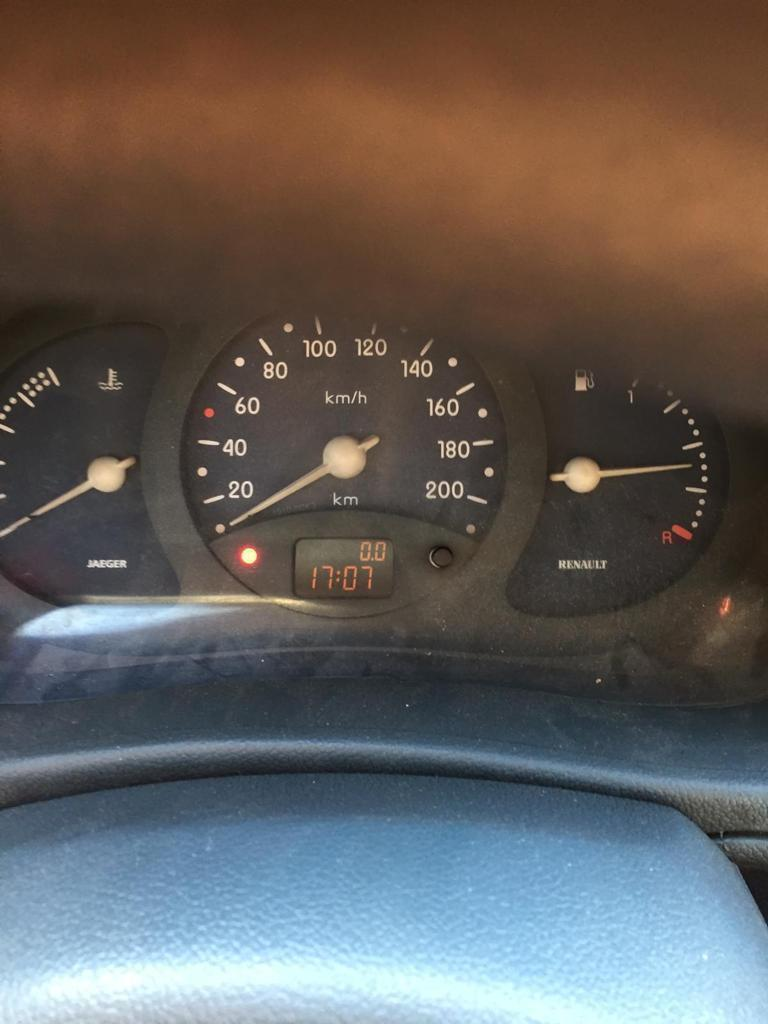,: (370, 555, 375, 562)
0: (342, 564, 357, 591), (358, 540, 371, 562), (374, 540, 385, 561)
1: (308, 564, 318, 589)
7: (320, 564, 334, 591), (359, 564, 373, 590)
X: (335, 568, 341, 583)
odometer: (290, 534, 397, 601)
